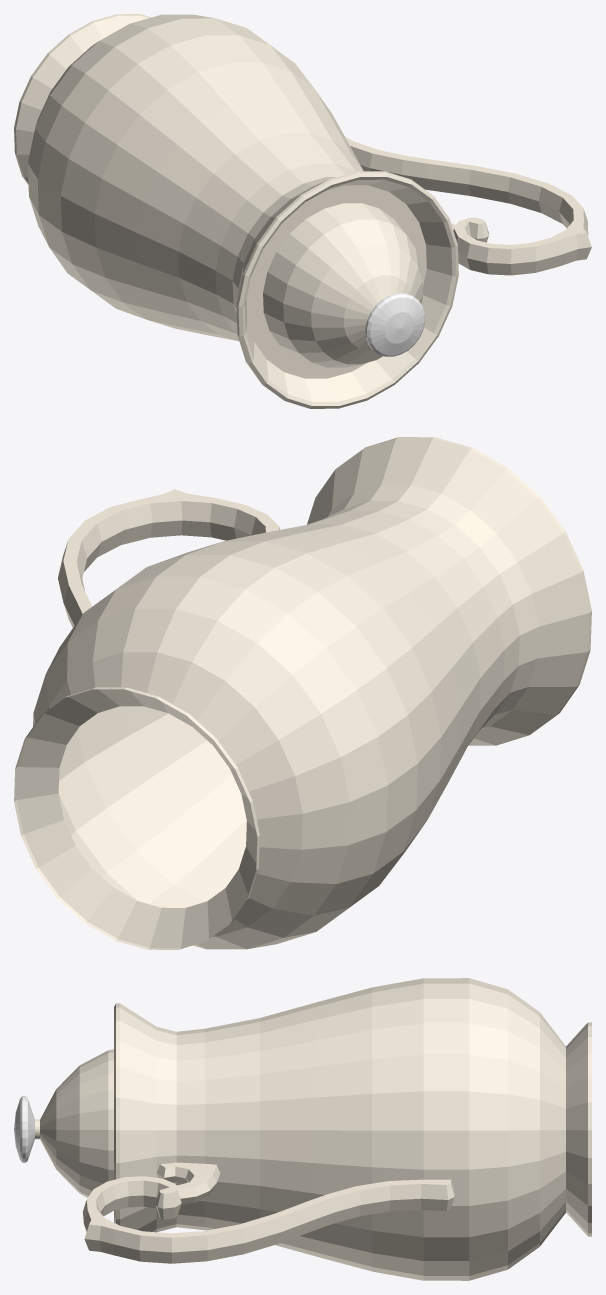
3 renders of one model, top to bottom at view 1: azimuth 30°, elevation 25°; view 2: azimuth 150°, elevation 25°; view 3: azimuth 270°, elevation 25°, orthographic. The views are drawn at different scales.
Visible parts, largest first — view 1: tea creamer; view 2: tea creamer; view 3: tea creamer.
Boxes of the visible parts, box(x1,y1,x2,y2) form: tea creamer: box(14, 14, 591, 408); tea creamer: box(14, 437, 591, 949); tea creamer: box(14, 978, 591, 1280).
Size of the model in its own units: 4.23 by 2.89 by 5.54.
